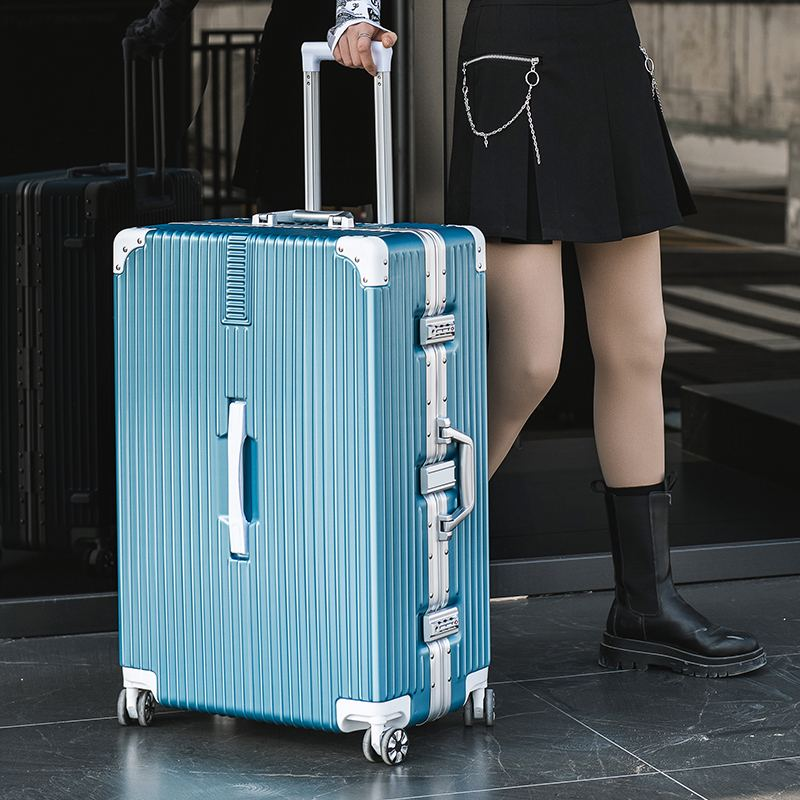box: (112, 217, 489, 731)
handle: (438, 417, 476, 543), (252, 209, 355, 230)
lock: (422, 607, 460, 643), (419, 314, 459, 344)
wheel: (363, 727, 408, 766), (117, 688, 155, 727), (463, 688, 497, 727)
